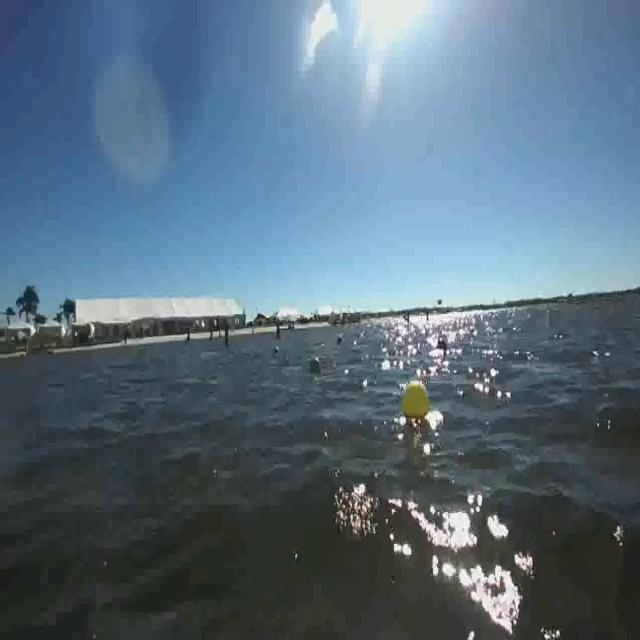yellow-buoy: (402, 379, 431, 422)
